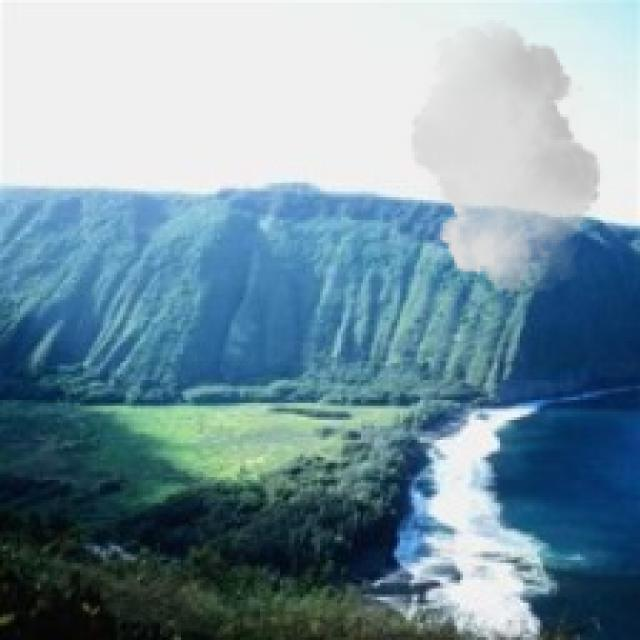Smoke: (402, 20, 608, 297)
